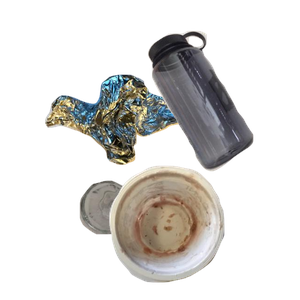glass: (77, 178, 205, 300)
metal: (42, 72, 239, 229)
plastic: (145, 28, 300, 192)
trash: (107, 163, 300, 300)
